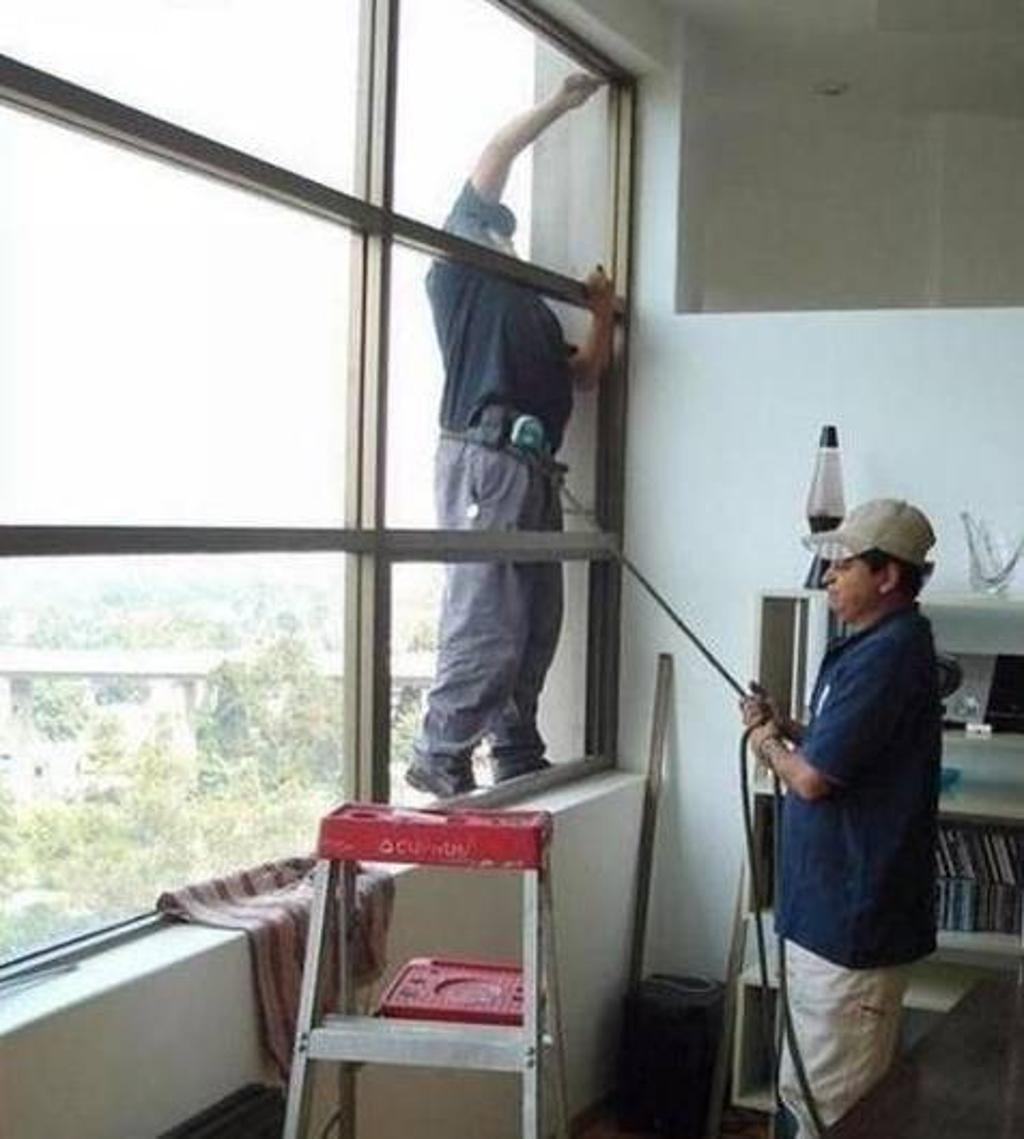face: (824, 522, 888, 613)
